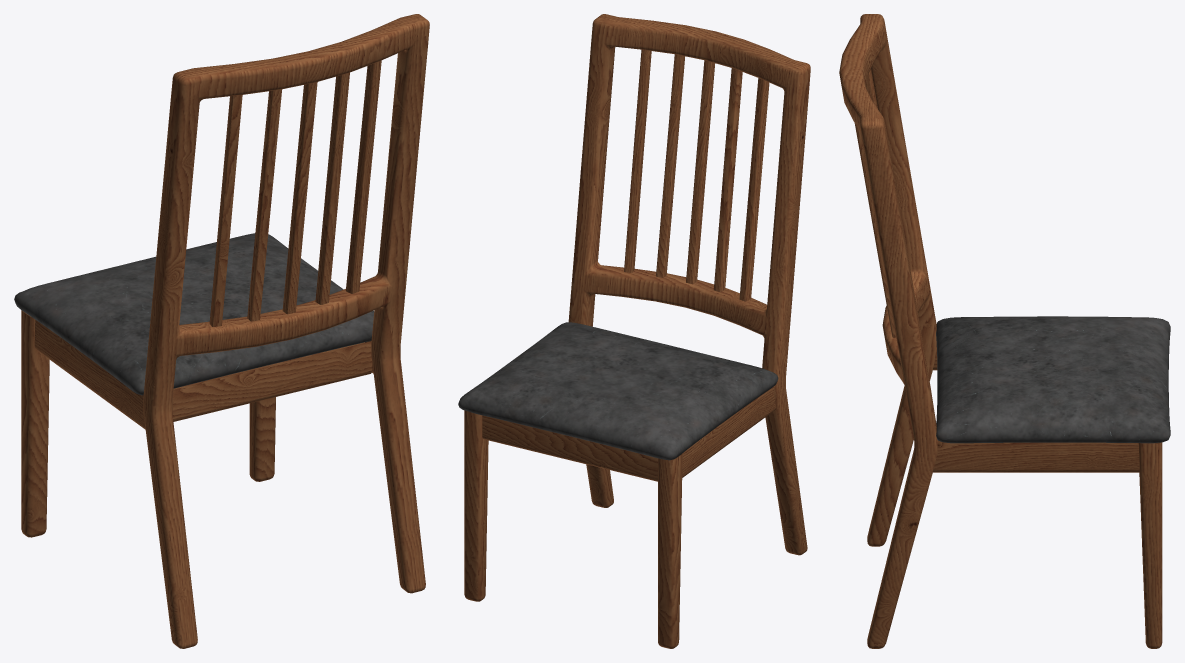
Rendered from Chair05.fbx.
3 renders of one model, left to right at view 1: azimuth 30°, elevation 25°; view 2: azimuth 150°, elevation 25°; view 3: azimuth 270°, elevation 25°, orthographic. The views are drawn at different scales.
Parts seen in each view (by area): view 1: Chair05; view 2: Chair05; view 3: Chair05.
Boxes of the visible parts, <box> form: Chair05: <box>14,14,429,648</box>; Chair05: <box>458,14,810,648</box>; Chair05: <box>839,14,1170,648</box>.
Size of the model in its own units: 42.24 by 90.59 by 51.6.
